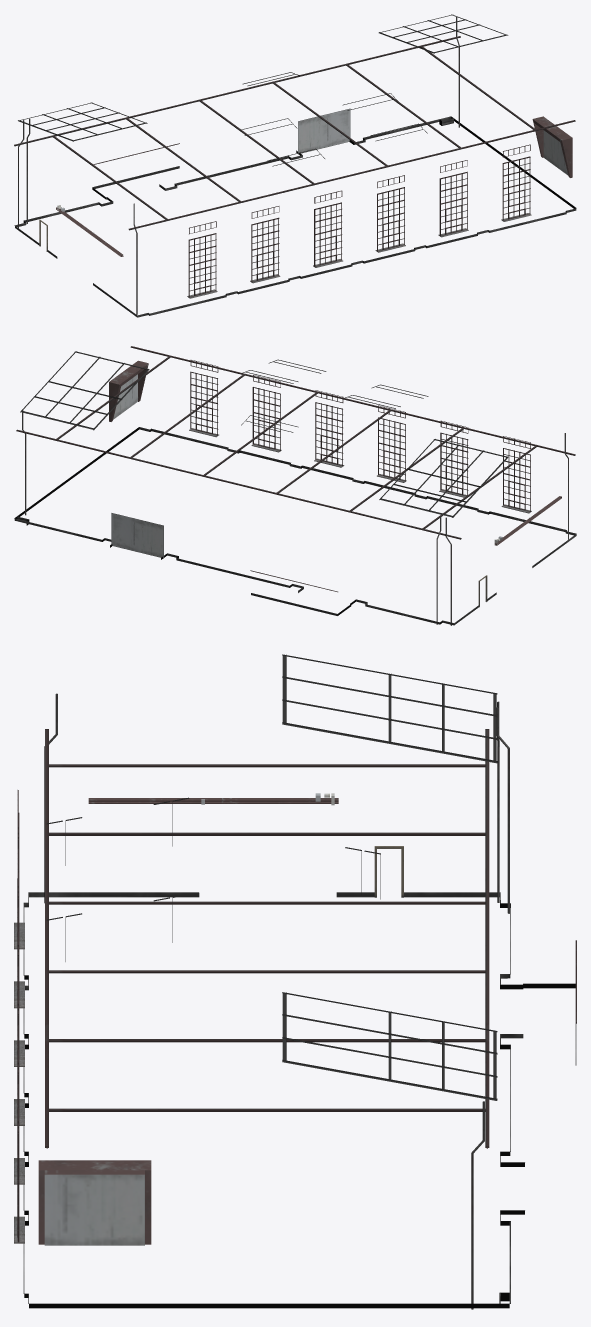
Rendered from SM_set_d.fbx.
3 renders of one model, top to bottom at view 1: azimuth 30°, elevation 25°; view 2: azimuth 150°, elevation 25°; view 3: azimuth 270°, elevation 25°, orthographic. The views are drawn at different scales.
Parts seen in each view (by area): view 1: SM_set_d; view 2: SM_set_d; view 3: SM_set_d.
Part boxes in pixels (x1,y1,x2,y2): SM_set_d: (14, 14, 576, 317); SM_set_d: (14, 346, 576, 625); SM_set_d: (14, 654, 576, 1309).
Size of the model in its own units: 4058 by 1133 by 2312.
